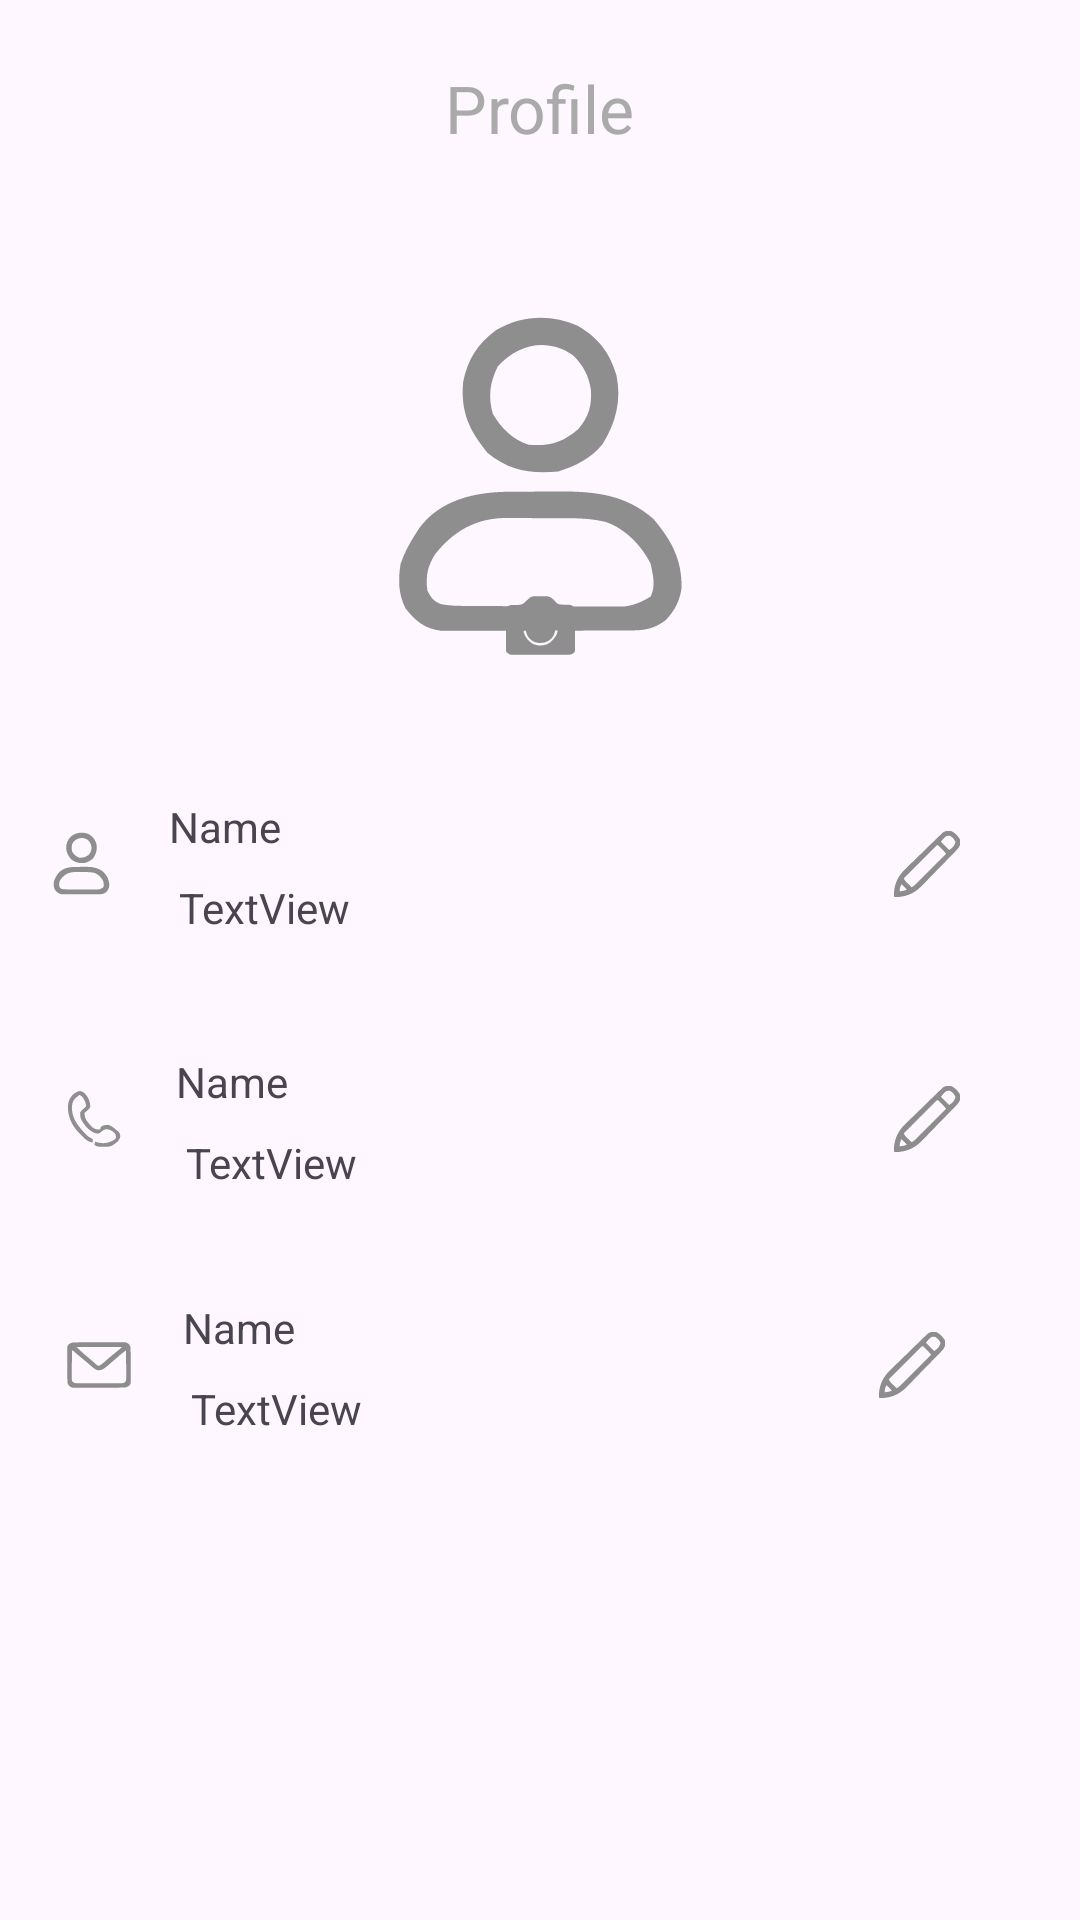

Point at icon controls on the screen. Image size 1080 × 1920, points as [x,y].
message: [99,1365]
pencil: [927,864], [927,1119], [912,1365]
phone call: [94,1119]
user: [81,863]
